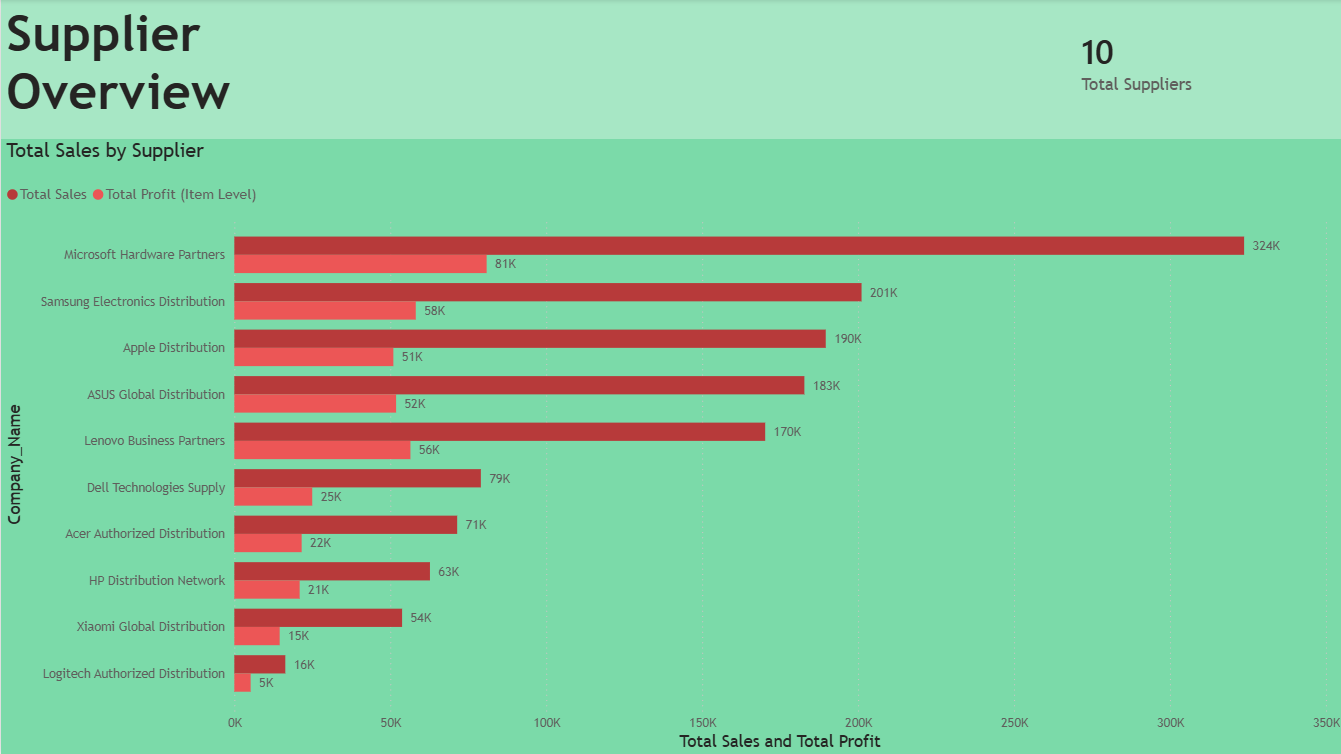

The page's visual inventory and layout, read from the dashboard file:
{"tool":"powerbi","page":{"name":"Supplier Overview","canvas":[1280,720],"ordinal":4},"visuals":[{"type":"clusteredBarChart","title":"Total Sales by Supplier","fields":{"Category":["Suppliers.Company_Name"],"Y":["_DAX Measures.Total Sales","_DAX Measures.Total Profit (Item Level)"]},"box":[0,133.5,1280,586.9],"z":0},{"type":"cardVisual","fields":{"Data":["_DAX Measures.Total Suppliers"]},"box":[1000,0,279.8,117.7],"z":1000},{"type":"textbox","box":[0,0,421.4,133.3],"z":2000}]}

Visuals, with their boxes in screenshot pixels (x1, y1, x2, y2), scaled from the page's 1280x720 canvas onto the 1341x754 screenshot:
"Total Sales by Supplier" clusteredBarChart: Rect(0, 140, 1340, 753)
cardVisual - _DAX Measures.Total Suppliers: Rect(1048, 0, 1340, 123)
textbox: Rect(0, 0, 441, 140)
